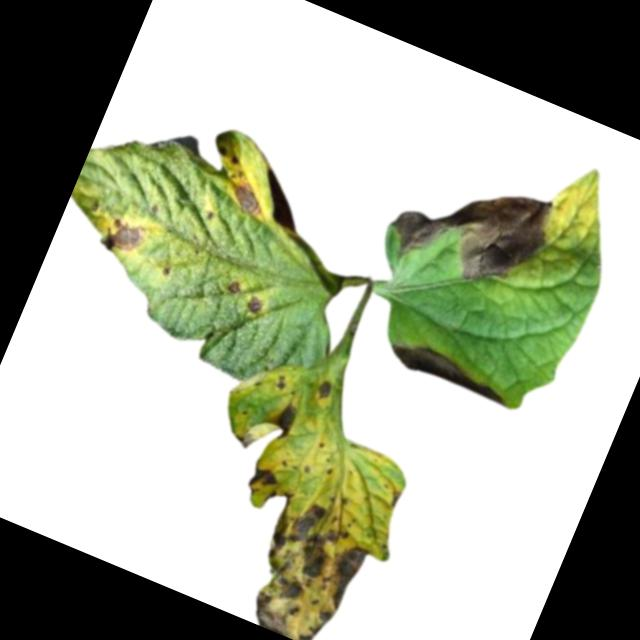Early_blight: (379, 146, 562, 306), (235, 488, 379, 640), (385, 333, 514, 415), (220, 171, 273, 221), (100, 212, 150, 261), (268, 398, 302, 443), (242, 459, 280, 498), (314, 374, 335, 400), (243, 291, 265, 315), (386, 487, 403, 510), (272, 373, 290, 394), (226, 274, 243, 293)
